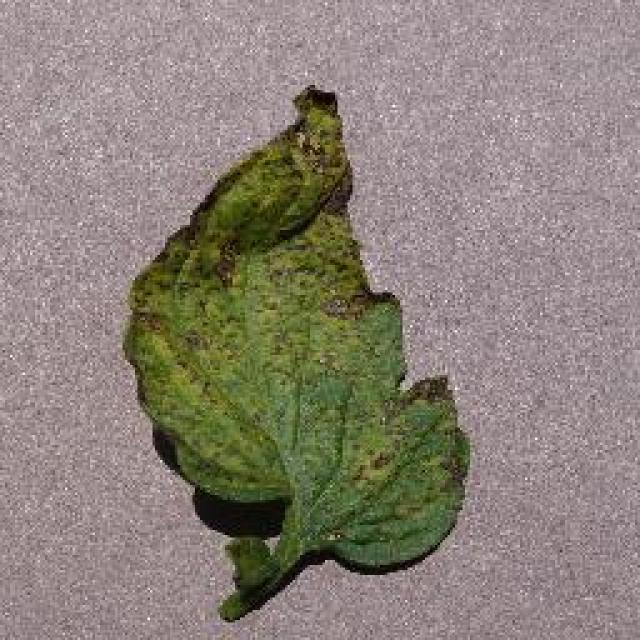Tomato target spot leaf: (119, 89, 471, 579)
